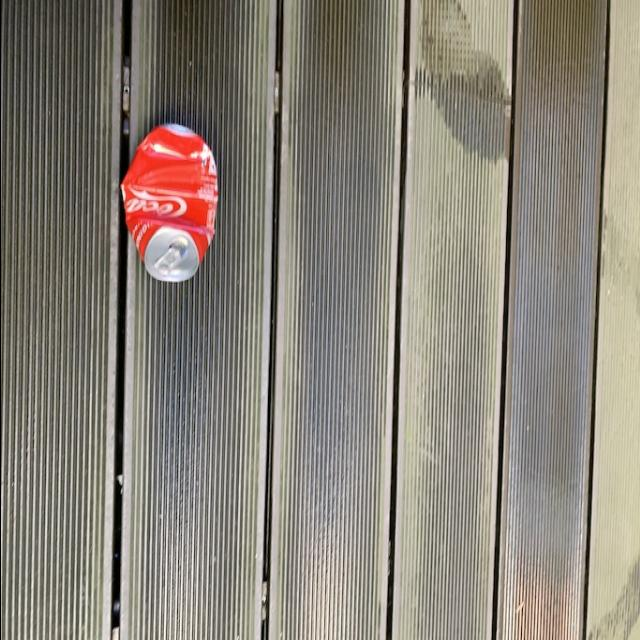litter: (118, 125, 216, 287)
